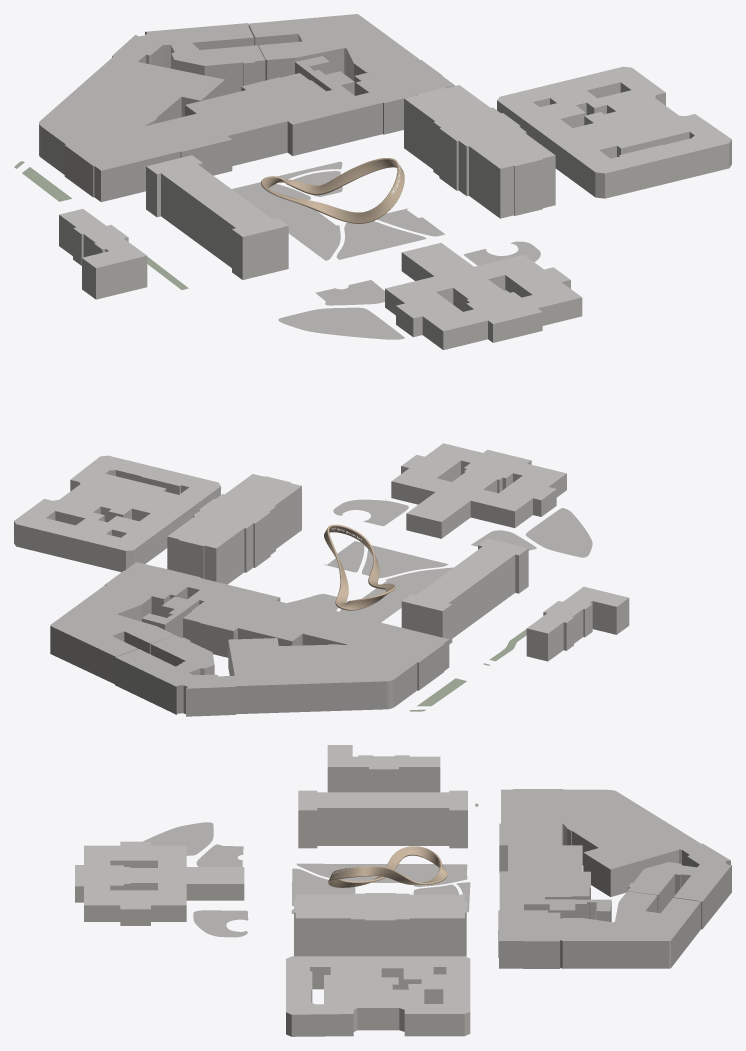
File: mobius_pavilion.glb
The picture shows the model from 3 angles, top to bottom: view 1: azimuth 30°, elevation 25°; view 2: azimuth 150°, elevation 25°; view 3: azimuth 270°, elevation 25°; orthographic projection. The views are drawn at different scales.
Visible parts, largest first — view 1: OSLO_CONTEXT_BUILDINGS, TULLINLOKKA_PLAZA, MOBIUS_PAVILION_SHELL, PLAZA_LANDSCAPING; view 2: TULLINLOKKA_PLAZA, OSLO_CONTEXT_BUILDINGS, MOBIUS_PAVILION_SHELL, PLAZA_LANDSCAPING; view 3: OSLO_CONTEXT_BUILDINGS, TULLINLOKKA_PLAZA, MOBIUS_PAVILION_SHELL.
Part boxes in pixels (left/top/right/bottom): OSLO_CONTEXT_BUILDINGS: left=59, top=66, right=731, bottom=349; TULLINLOKKA_PLAZA: left=39, top=14, right=540, bottom=339; MOBIUS_PAVILION_SHELL: left=261, top=158, right=404, bottom=223; PLAZA_LANDSCAPING: left=14, top=161, right=188, bottom=289; TULLINLOKKA_PLAZA: left=50, top=499, right=592, bottom=716; OSLO_CONTEXT_BUILDINGS: left=14, top=443, right=629, bottom=661; MOBIUS_PAVILION_SHELL: left=324, top=524, right=395, bottom=610; PLAZA_LANDSCAPING: left=409, top=629, right=526, bottom=711; OSLO_CONTEXT_BUILDINGS: left=75, top=745, right=470, bottom=1036; TULLINLOKKA_PLAZA: left=143, top=789, right=731, bottom=968; MOBIUS_PAVILION_SHELL: left=328, top=846, right=447, bottom=887.
Size of the model in its own units: 307 by 23.71 by 352.
